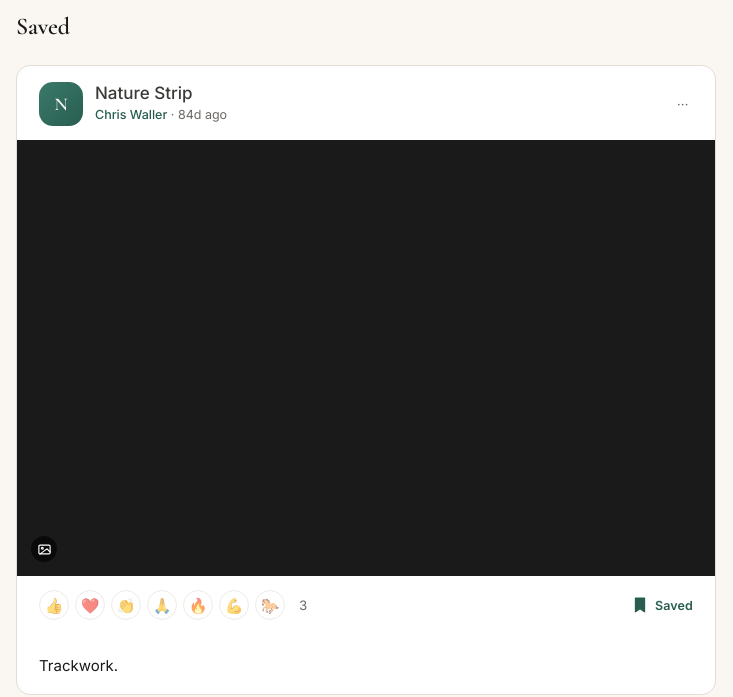
Scenario: SavedFeed › unsave removes the card from the list
Check: the heading "Nature Strip" is shown, box [95,83,193,103]
Every card is saved → its bookmark button is labelled "Remove bookmark".
Click the button with aria-label "Remove bookmark" at coordinates (662, 605), box [631,596,693,614]
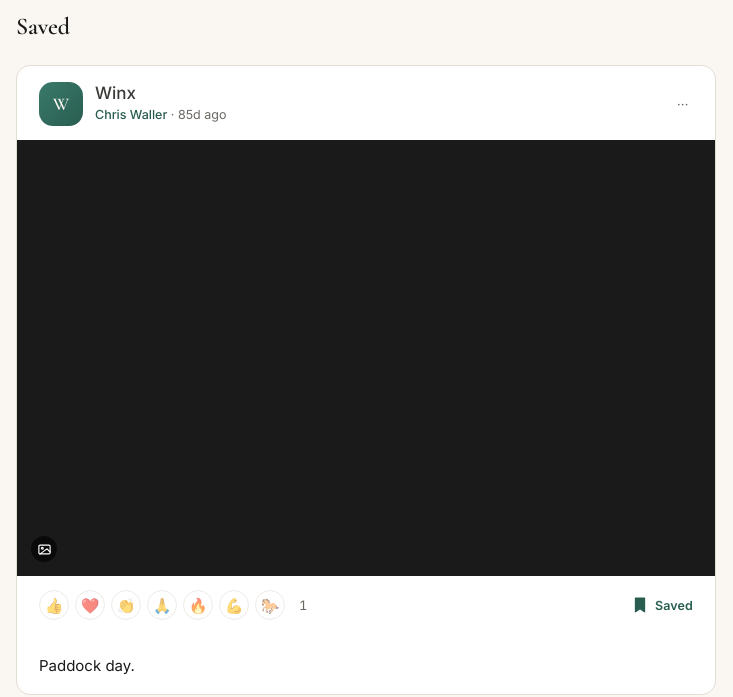
Check: the heading "Winx" is shown, box [95,83,136,103]
Check: the heading "Nature Strip" is gone
